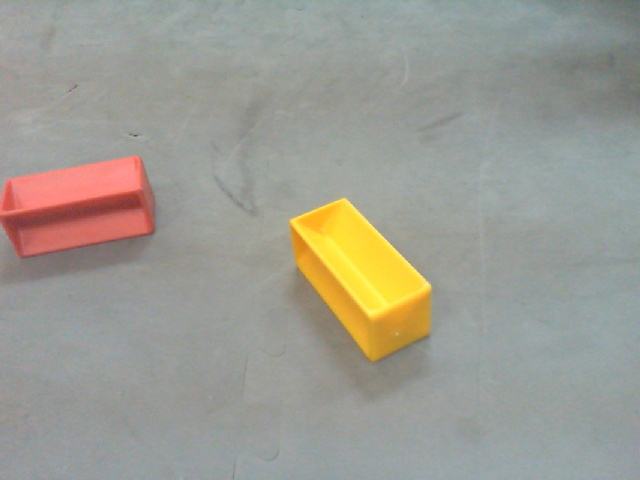RedSample: (1, 154, 158, 260)
YellowSample: (289, 197, 435, 360)
